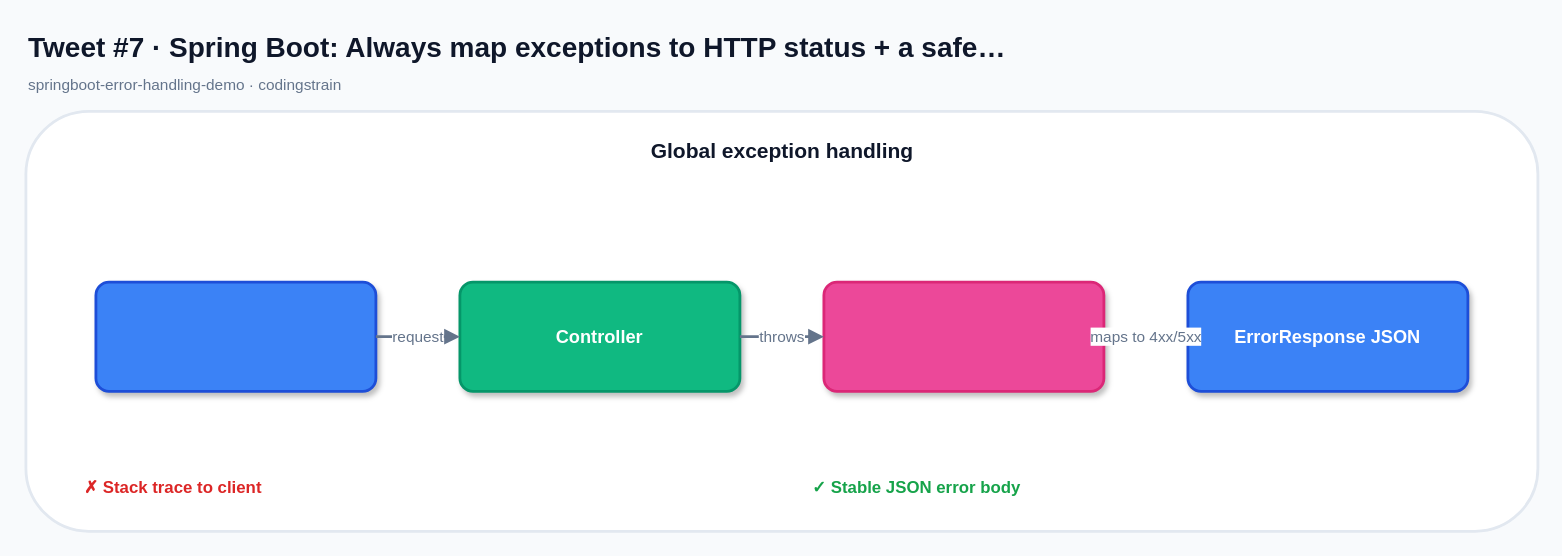
Some shapes in this 1562 by 556 pixel diagram are drawn without their labels. Each missing label, with the centre of its shape:
@RestControllerAdvice: [964,338]
HTTP Client: [236,338]
